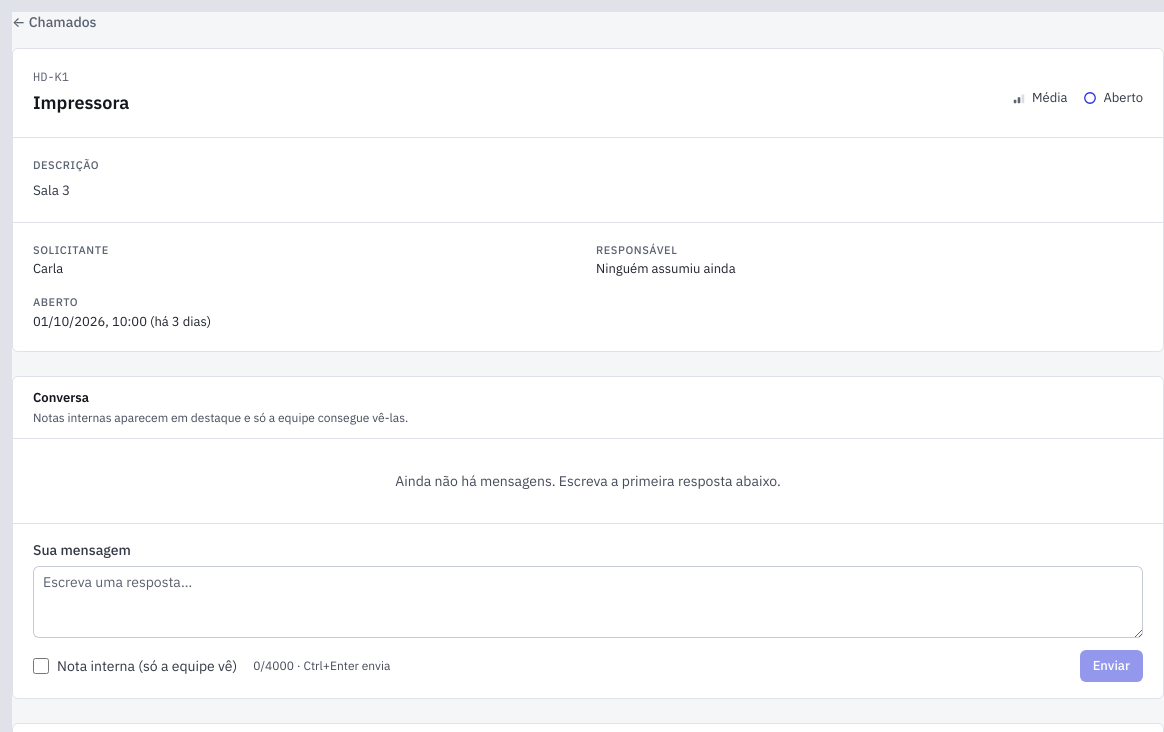
Scenario: Compositor › equipe vê a opção e, ao marcá-la, o formulário muda de modo e de rótulo
Click the checkbox labelled "Nota interna (só a equipe vê)" at [41, 666], box [33,658,49,674]
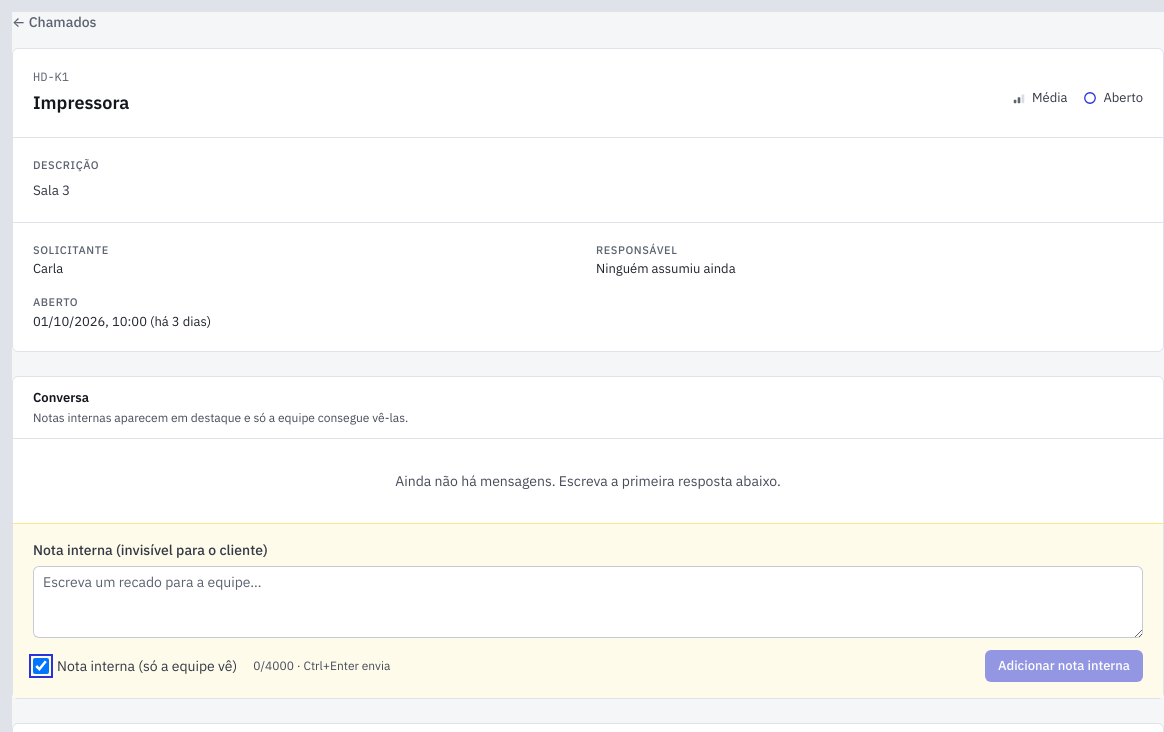
Expected: the text box labelled "Nota interna (invisível para o cliente)" is shown, [33,566,1143,638]
Result: the button "Adicionar nota interna" is shown at [985,650,1143,682]
